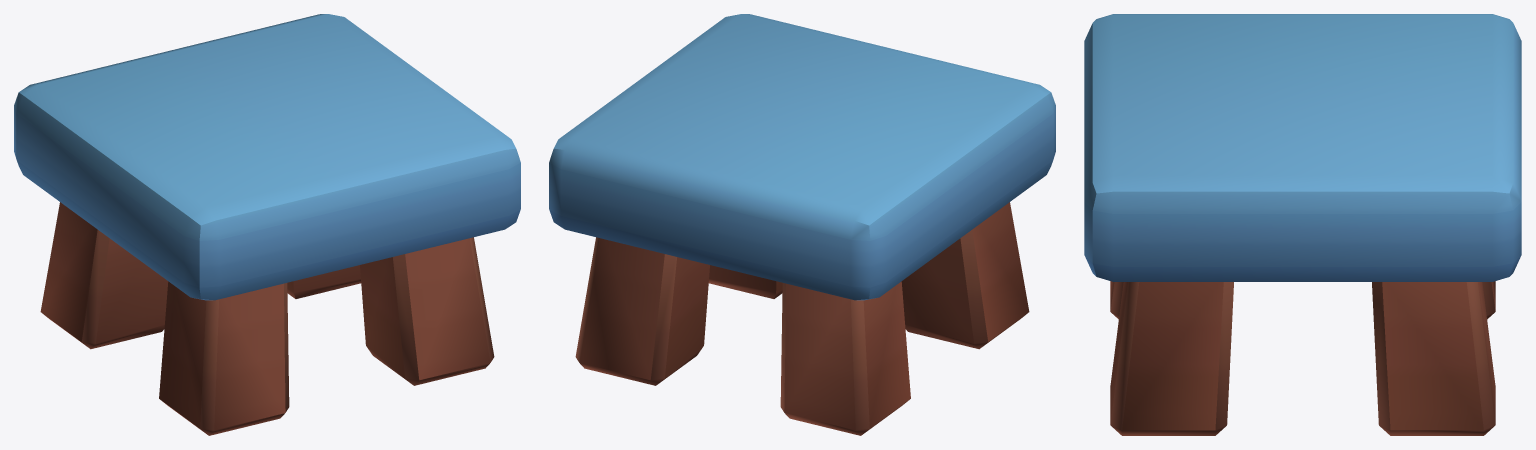
File: chair_stool.glb
The picture shows the model from 3 angles, left to right: view 1: azimuth 30°, elevation 25°; view 2: azimuth 150°, elevation 25°; view 3: azimuth 270°, elevation 25°; orthographic projection. The views are drawn at different scales.
Visible parts, largest first — view 1: chair_stool; view 2: chair_stool; view 3: chair_stool.
Boxes of the visible parts, x1,y1,x2,y2 form: chair_stool: (14,14,520,435); chair_stool: (549,14,1055,435); chair_stool: (1084,14,1521,435).
Bounding box in the file's own units: 0.75 × 0.5 × 0.75.
1 material, 1 textured.
